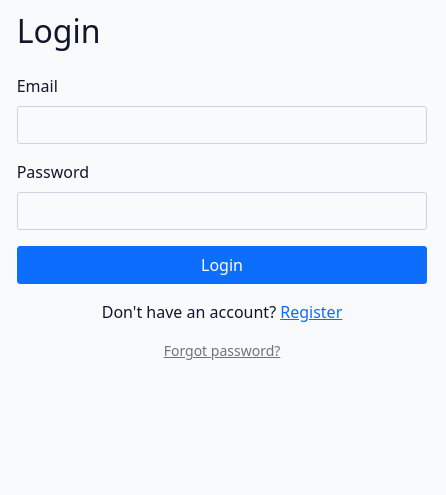
Route Pages Load Verification › renders Login page and supports MFA passkey / hardware token flow with dark mode compatible container
Type "user@example.com" into the field labelled "Email".
click(222, 125); type("user@example.com")  # box [17,106,427,144]
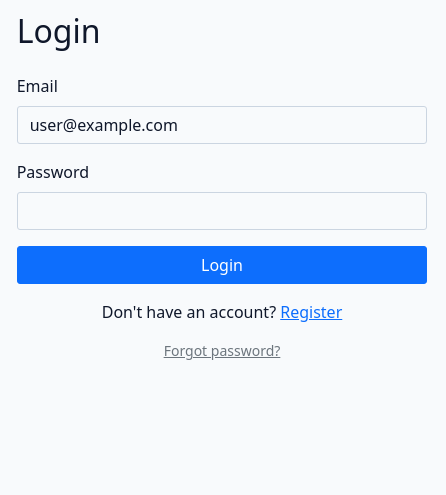
Type "secretpass" into the password field labelled "Password".
click(222, 211); type("secretpass")  # box [17,192,427,230]
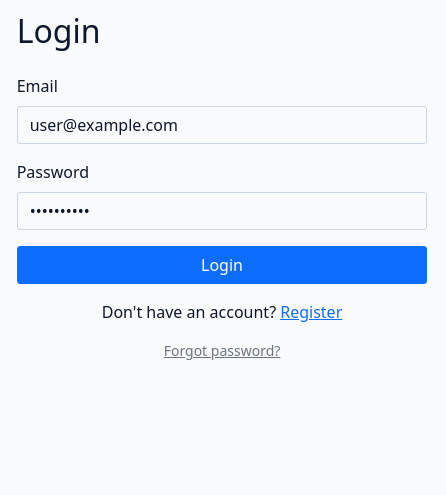
Click the button "Login".
click(222, 265)  # box [17,246,427,284]
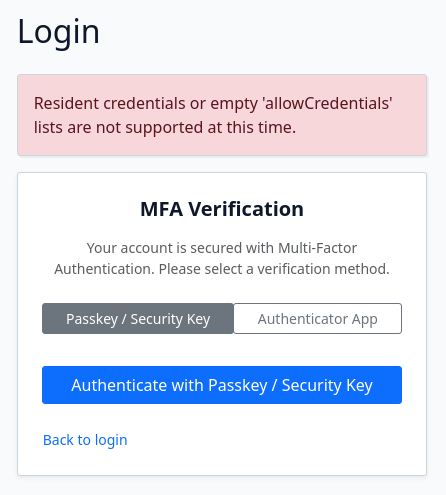
Result: the text "MFA Verification" is shown at [140,197,304,221]
Result: the button "Authenticate with Passkey / Security Key" is shown at [42,366,402,404]
Result: the text "Passkey / Security Key" is shown at [66,308,210,329]
